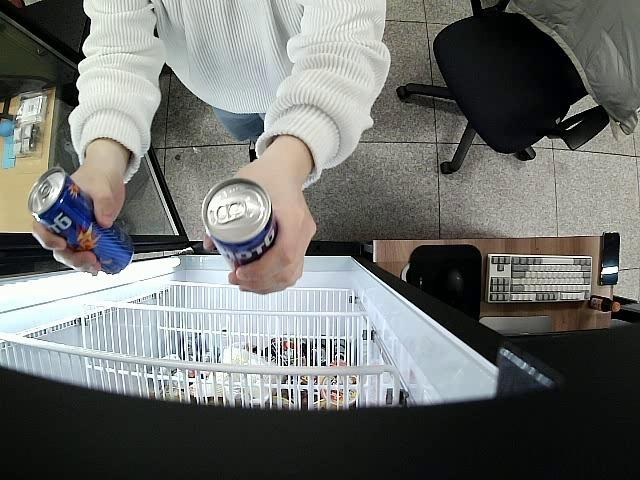16_hot6: (28, 167, 134, 275), (202, 178, 278, 270)
